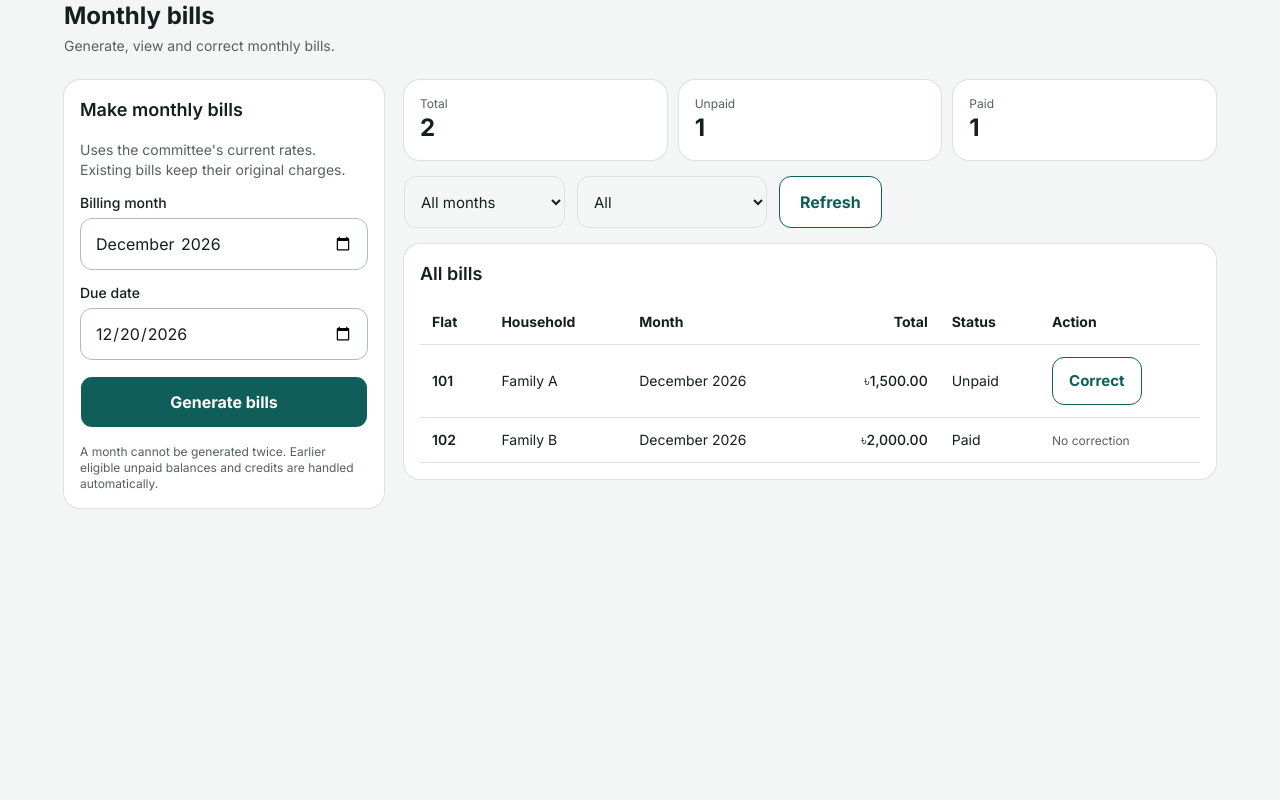
it: BB-0509 Manager Bills Page › corrects an unpaid bill with a reason
Expected: the text "Family A" is shown, [489,344,627,418]
Click the button "Correct" at coordinates (1097, 381), box [1052,357,1142,405]
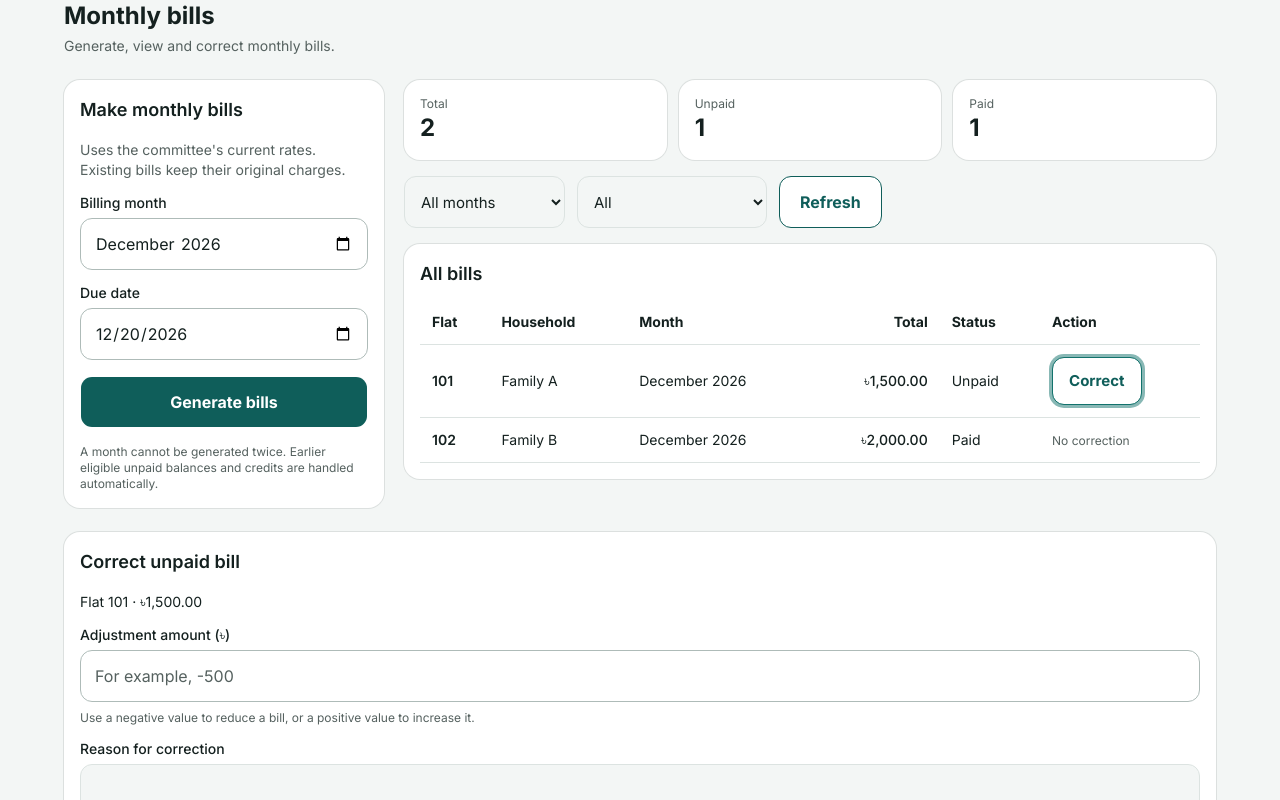
Type "-500" into the field labelled "Adjustment amount (৳)" at coordinates (640, 676), box [80,650,1200,702]
(page scrolled)
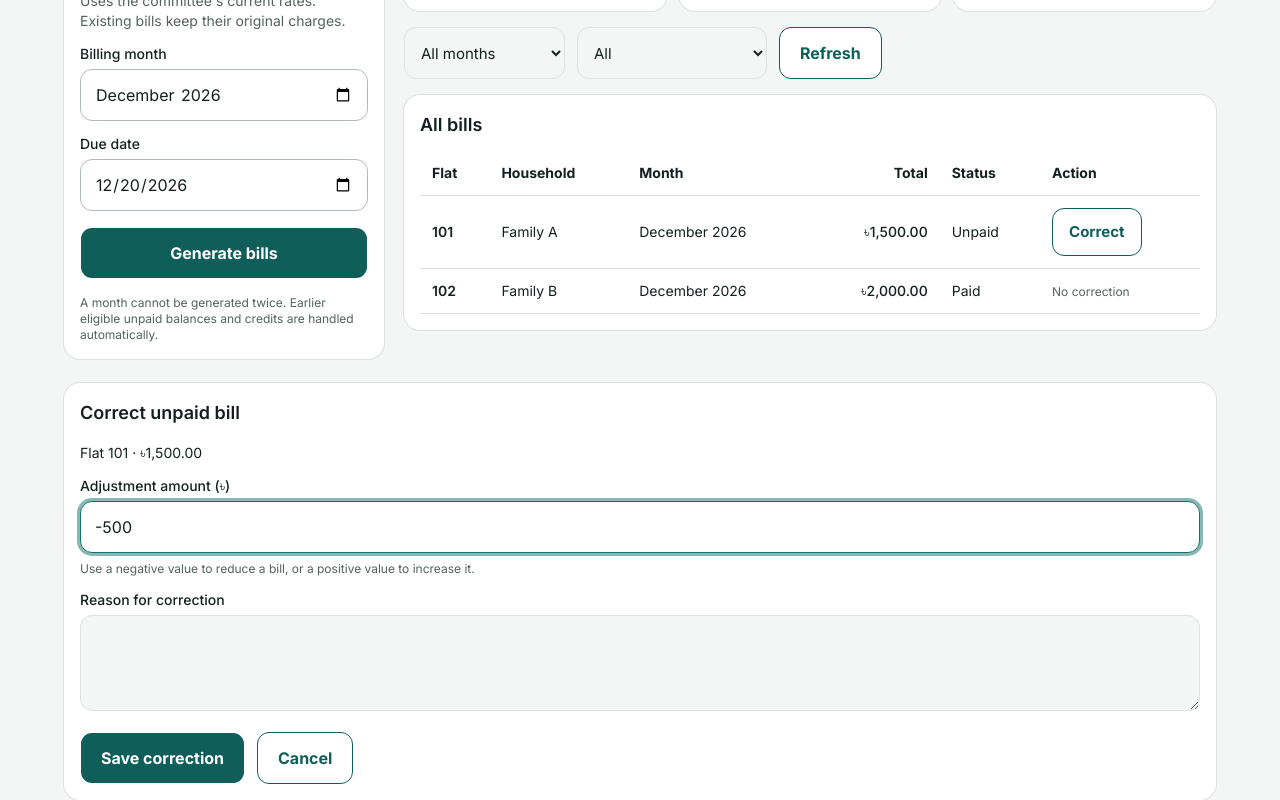
Type "Incorrect generator charge" into the text box labelled "Reason for correction" at coordinates (640, 663), box [80,615,1200,711]
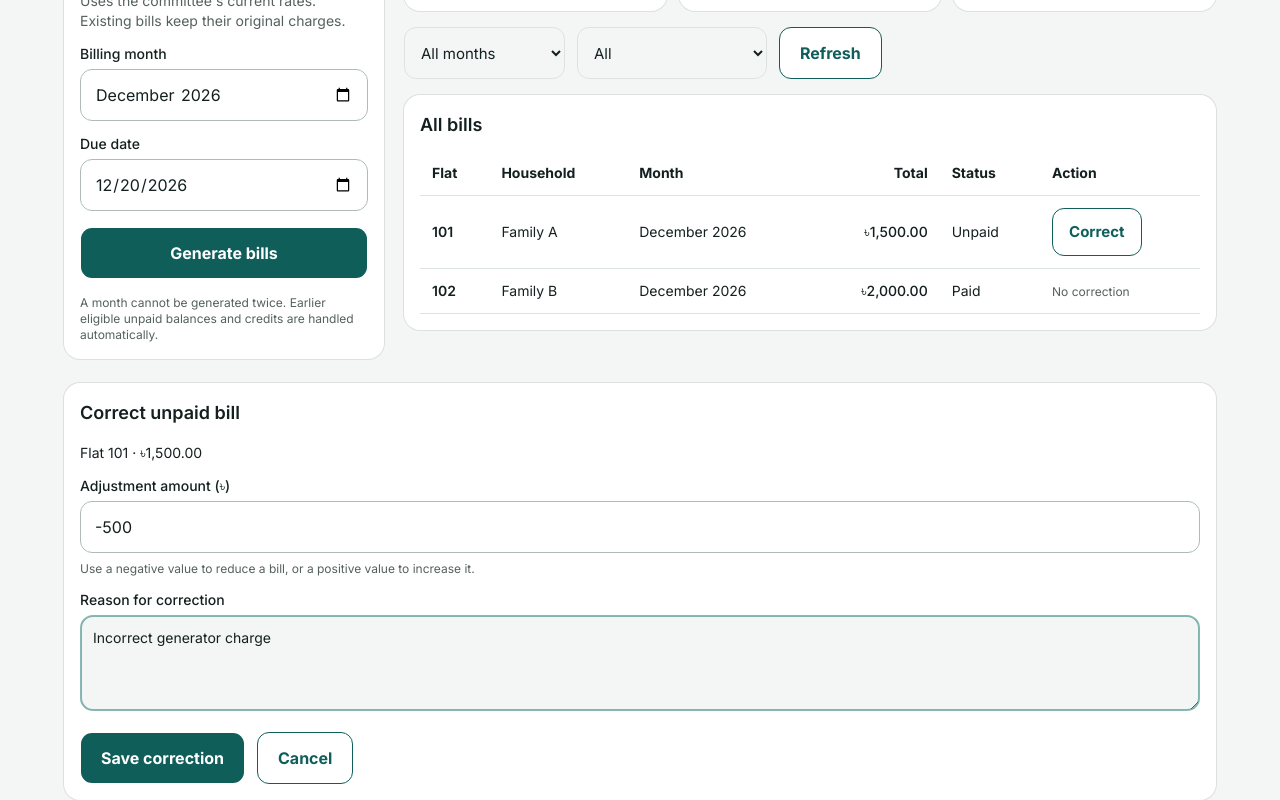
Click the button "Save correction" at coordinates (162, 758), box [80,732,245,784]
(page scrolled)
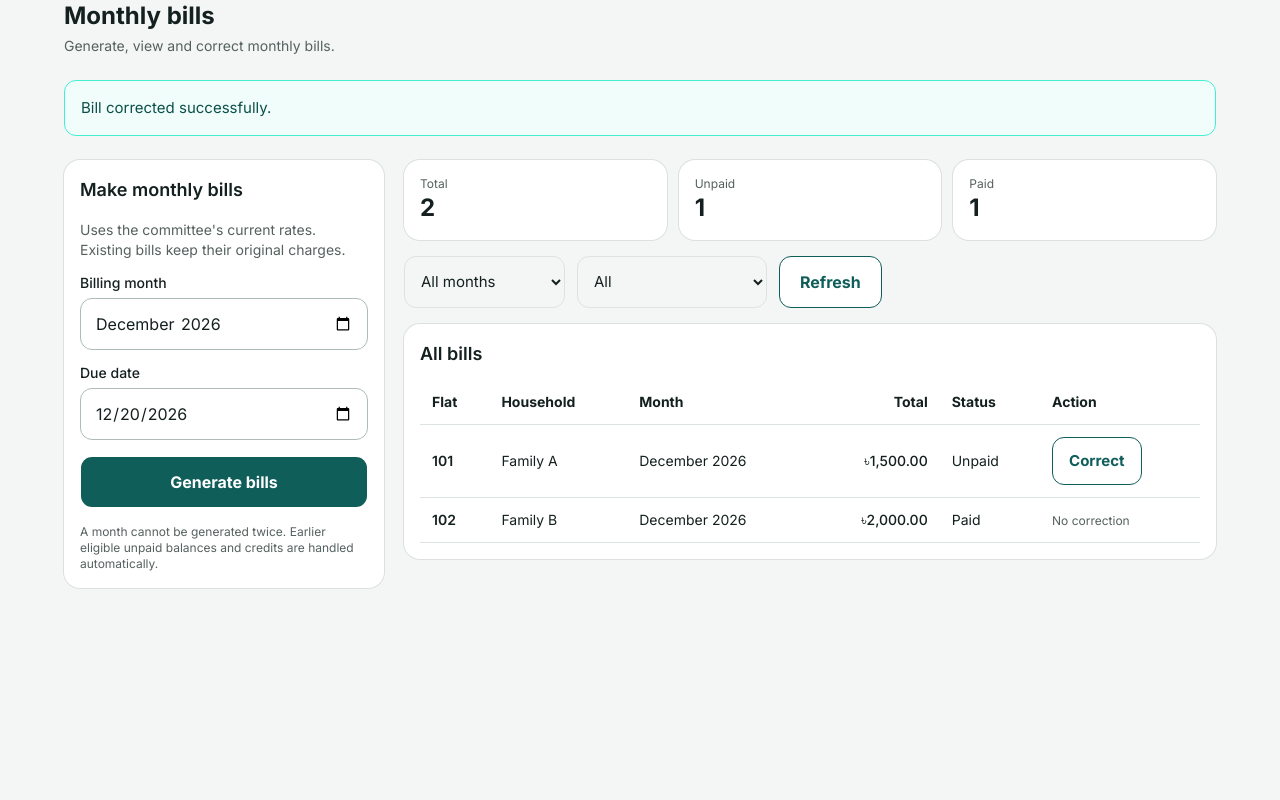
Expected: the text "Bill corrected successfully." is shown, [64,80,1216,136]
